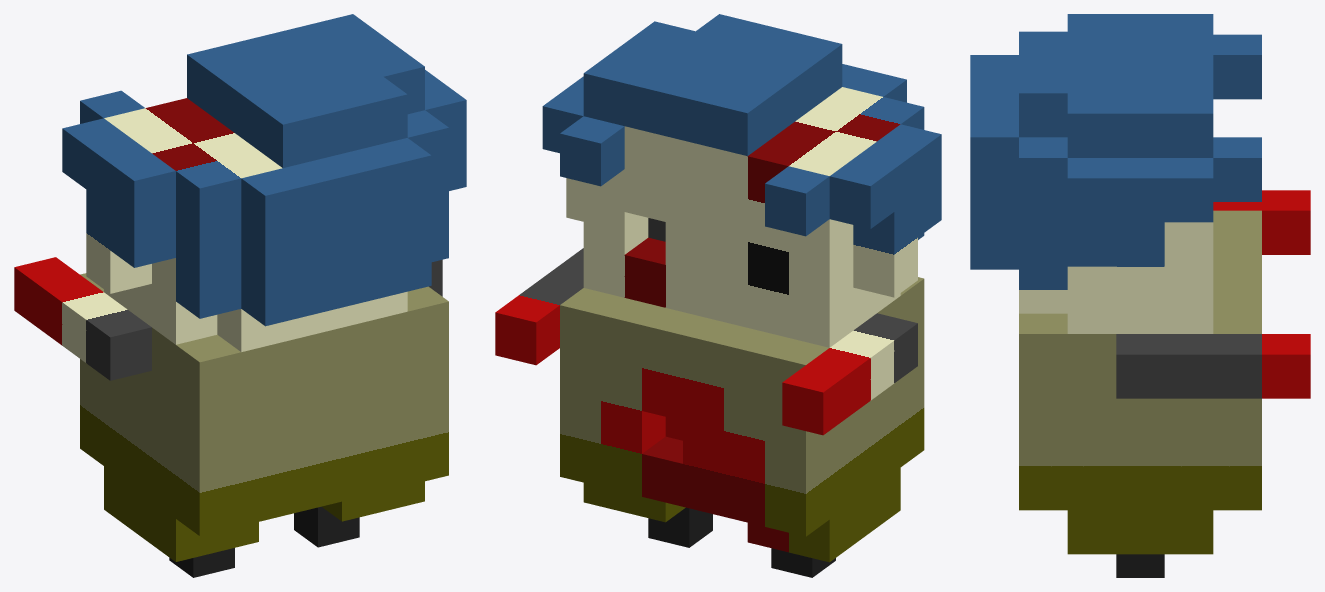
File: chr_zombie3.dae
The picture shows the model from 3 angles, left to right: view 1: azimuth 30°, elevation 25°; view 2: azimuth 150°, elevation 25°; view 3: azimuth 270°, elevation 25°; orthographic projection. The views are drawn at different scales.
Parts seen in each view (by area): view 1: chr_zombie3; view 2: chr_zombie3; view 3: chr_zombie3.
Boxes of the visible parts, x1,y1,x2,y2 form: chr_zombie3: [14, 14, 466, 577]; chr_zombie3: [495, 14, 941, 577]; chr_zombie3: [970, 14, 1310, 577].
Bounding box in the file's own units: 0.8 × 0.7 × 1.1.
